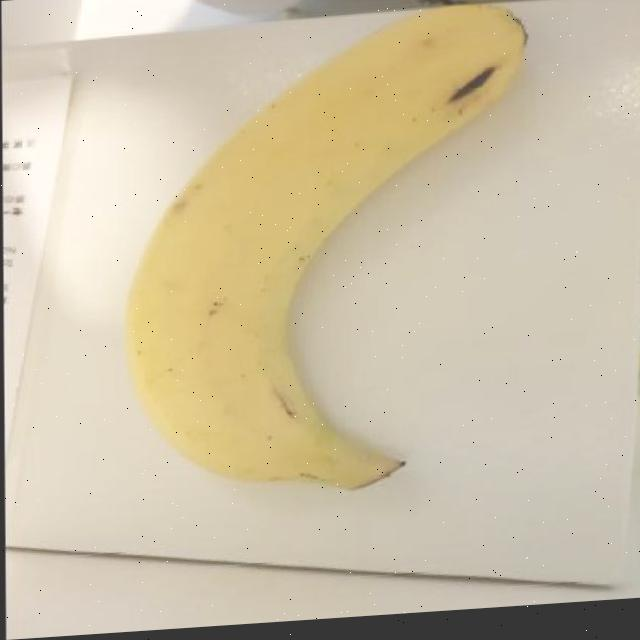banana: (115, 0, 546, 514)
